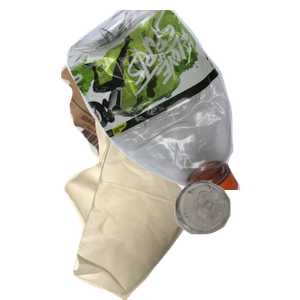cardboard: (58, 31, 222, 188)
glass: (172, 178, 300, 300)
plastic: (64, 10, 300, 190)
trash: (62, 120, 251, 300)
